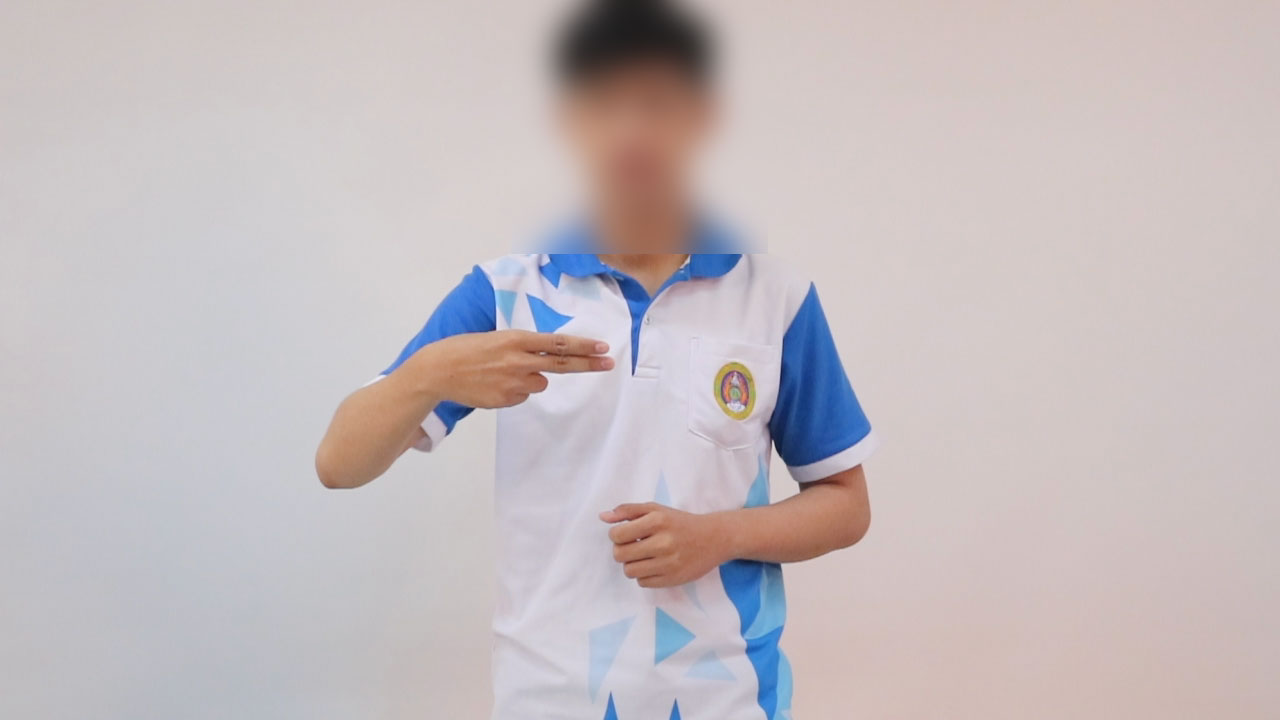hor: (395, 317, 628, 425)
